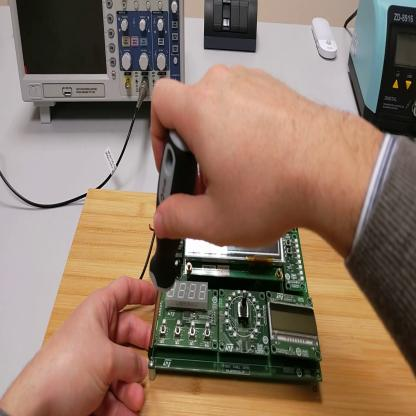hand: (149, 64, 307, 253), (33, 276, 157, 415)
low voltage board: (141, 228, 324, 383)
oscilloscope: (10, 2, 187, 126)
screwdriver-: (149, 130, 197, 359)
welder station: (348, 2, 416, 142)
working area: (43, 190, 416, 416)
